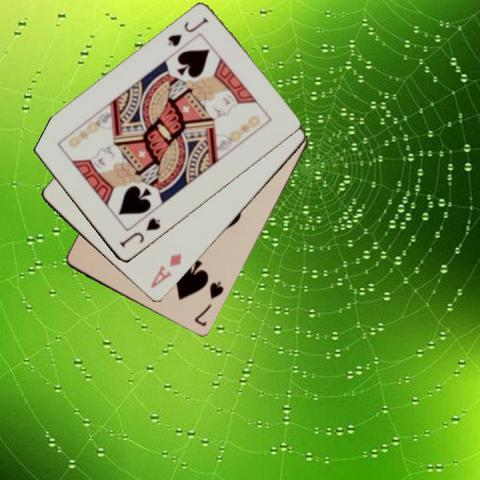7s: (192, 278, 226, 329)
Ad: (148, 250, 184, 290)
Js: (117, 215, 162, 250), (165, 14, 209, 49)
